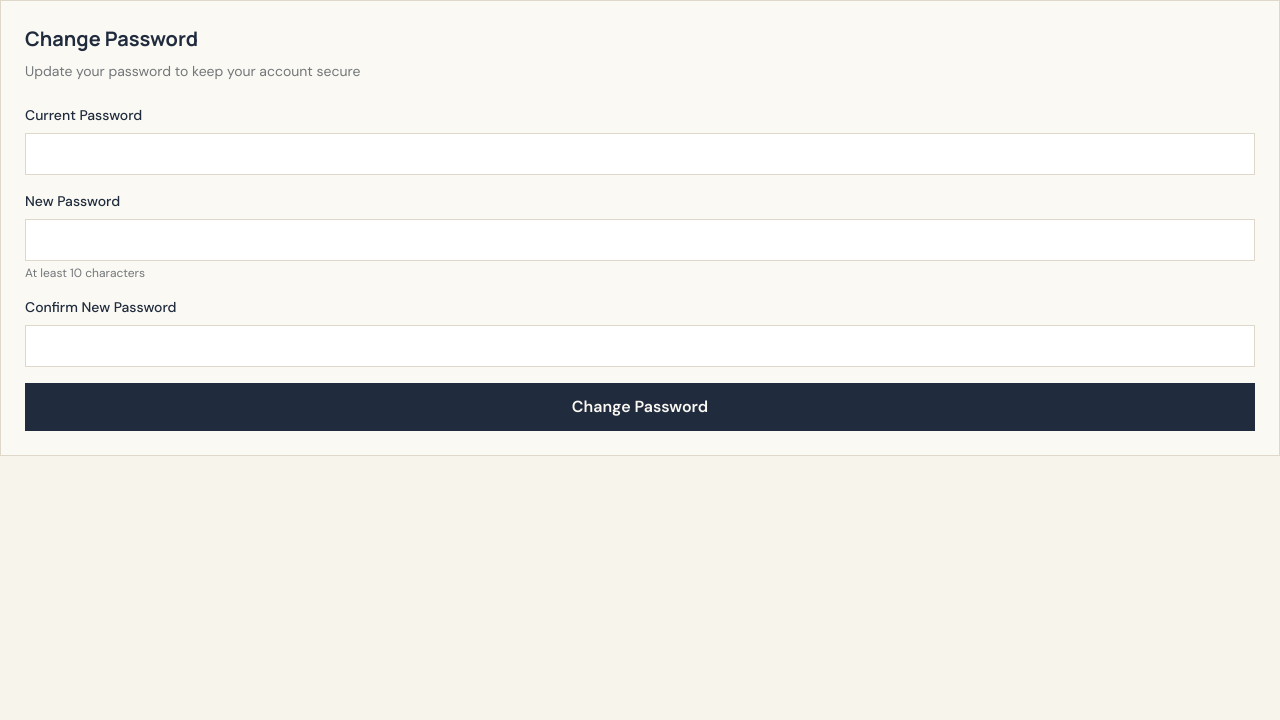
Test: ChangePasswordForm › shows validation error for mismatched passwords
Step 1. Type "validpassword123" into the password field labelled "New Password" → [640, 240], box [25,219,1255,261]
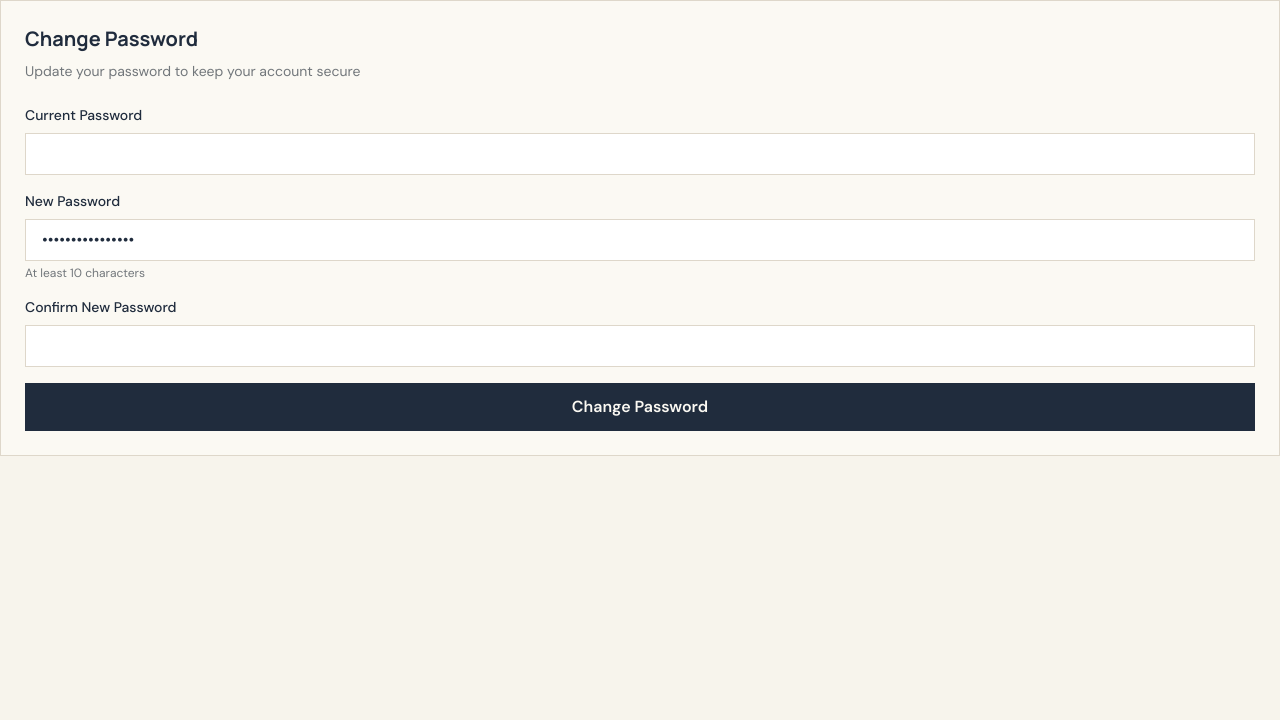
Step 2. Type "differentpassword" into the password field labelled "Confirm New Password" → [640, 346], box [25,325,1255,367]
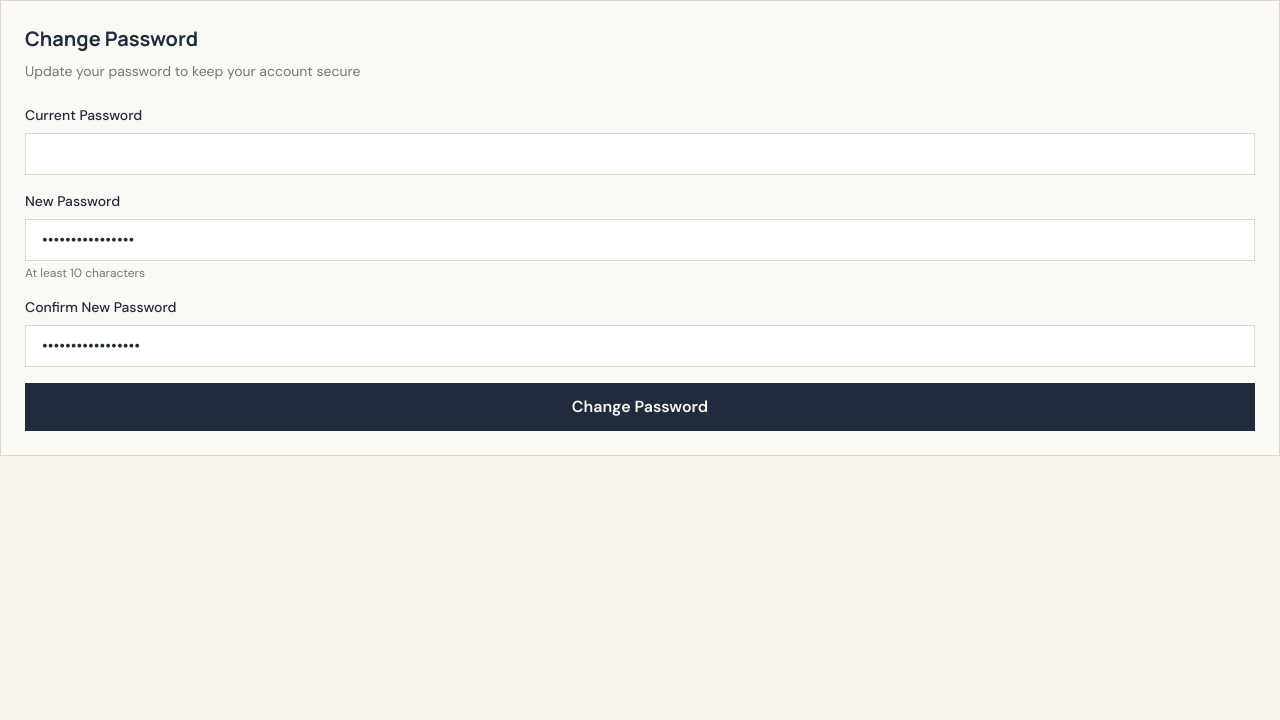
Step 3. Click the button "Change Password" → [640, 407], box [25,383,1255,431]
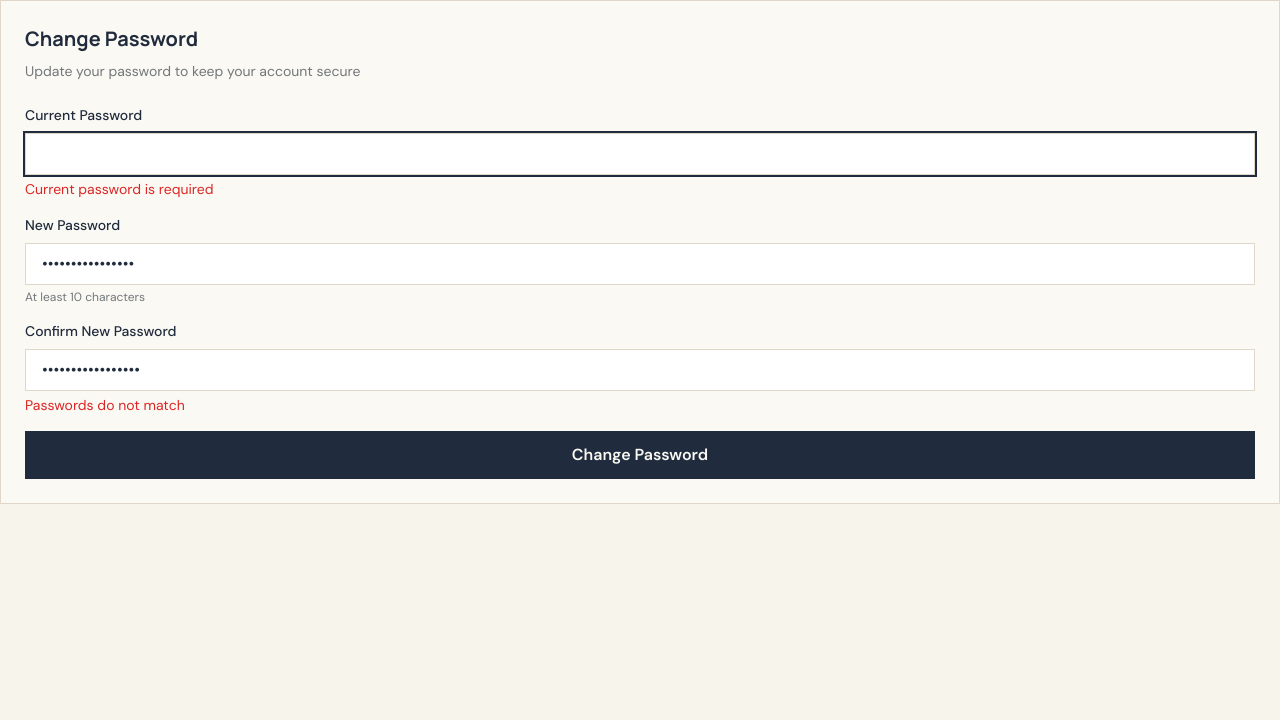
Expected: the text "Passwords do not match" is shown, [25,396,185,414]
